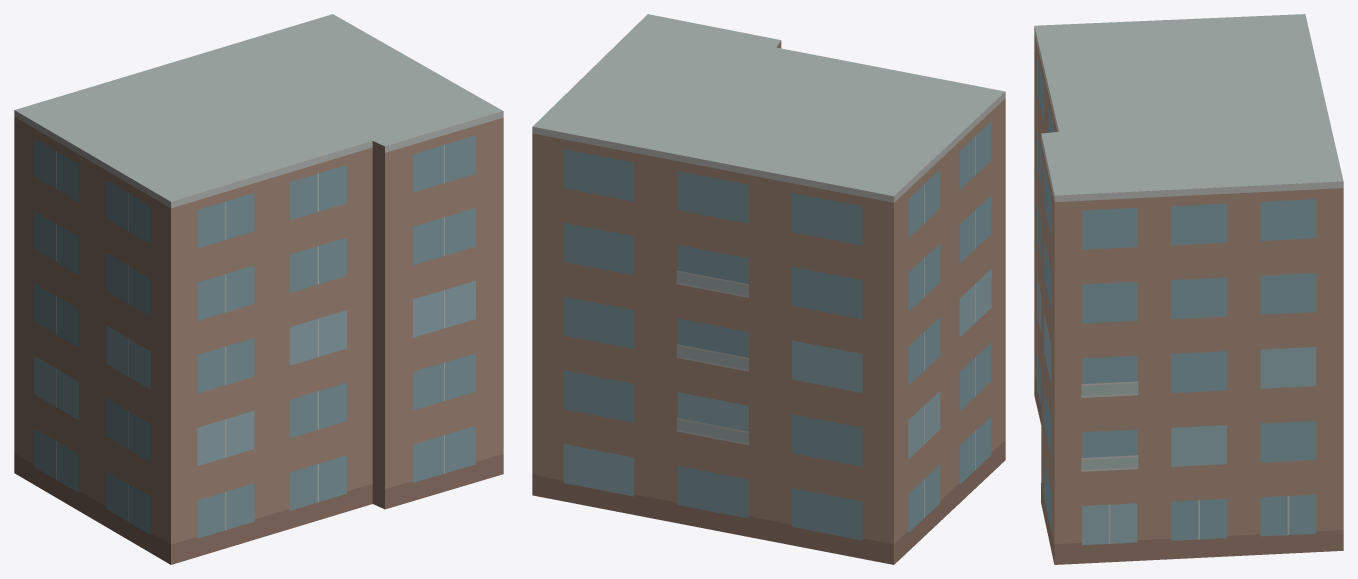
Rendered from survey-upis-32654825.glb.
3 views of the same model, side by side, from view 1: azimuth 30°, elevation 25°; view 2: azimuth 150°, elevation 25°; view 3: azimuth 270°, elevation 25° (orthographic).
Parts seen in each view (by area): view 1: survey-upis-32654825.tmp; view 2: survey-upis-32654825.tmp; view 3: survey-upis-32654825.tmp.
Boxes of the visible parts, <box> form: survey-upis-32654825.tmp: <box>14,14,503,564</box>; survey-upis-32654825.tmp: <box>532,14,1005,564</box>; survey-upis-32654825.tmp: <box>1034,14,1343,564</box>.
Size of the model in its own units: 14.35 by 13.6 by 10.33.
